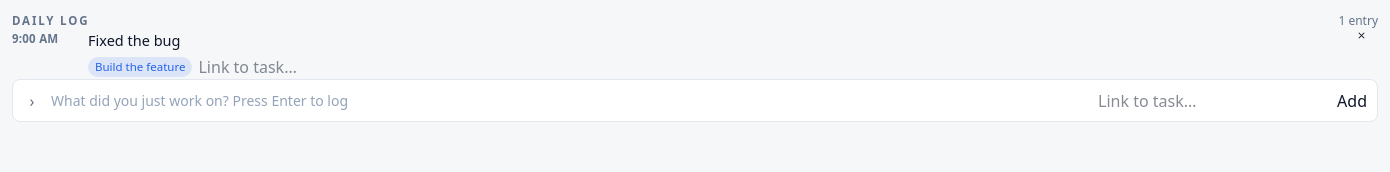
Scenario: DailyLogSection on touch › a single tap on the log text edits it in place
Click the button "Fixed the bug" at (134, 40), box [88,30,180,50]
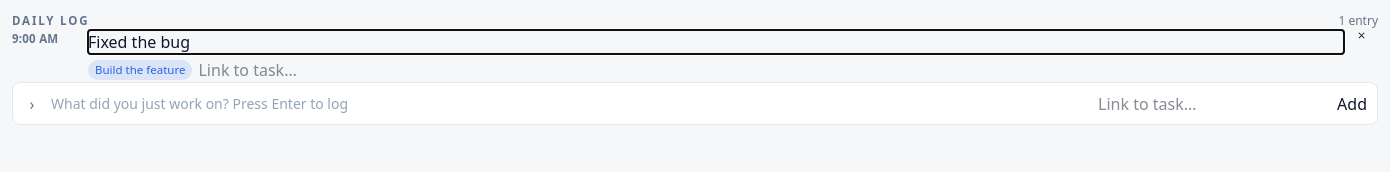
Expected: the field named "Edit log entry" holds "Fixed the bug", [88,30,1344,54]
